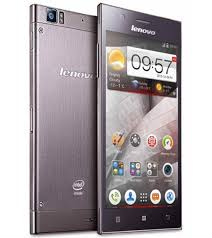lenovo: (94, 1, 186, 236), (29, 1, 95, 236)
